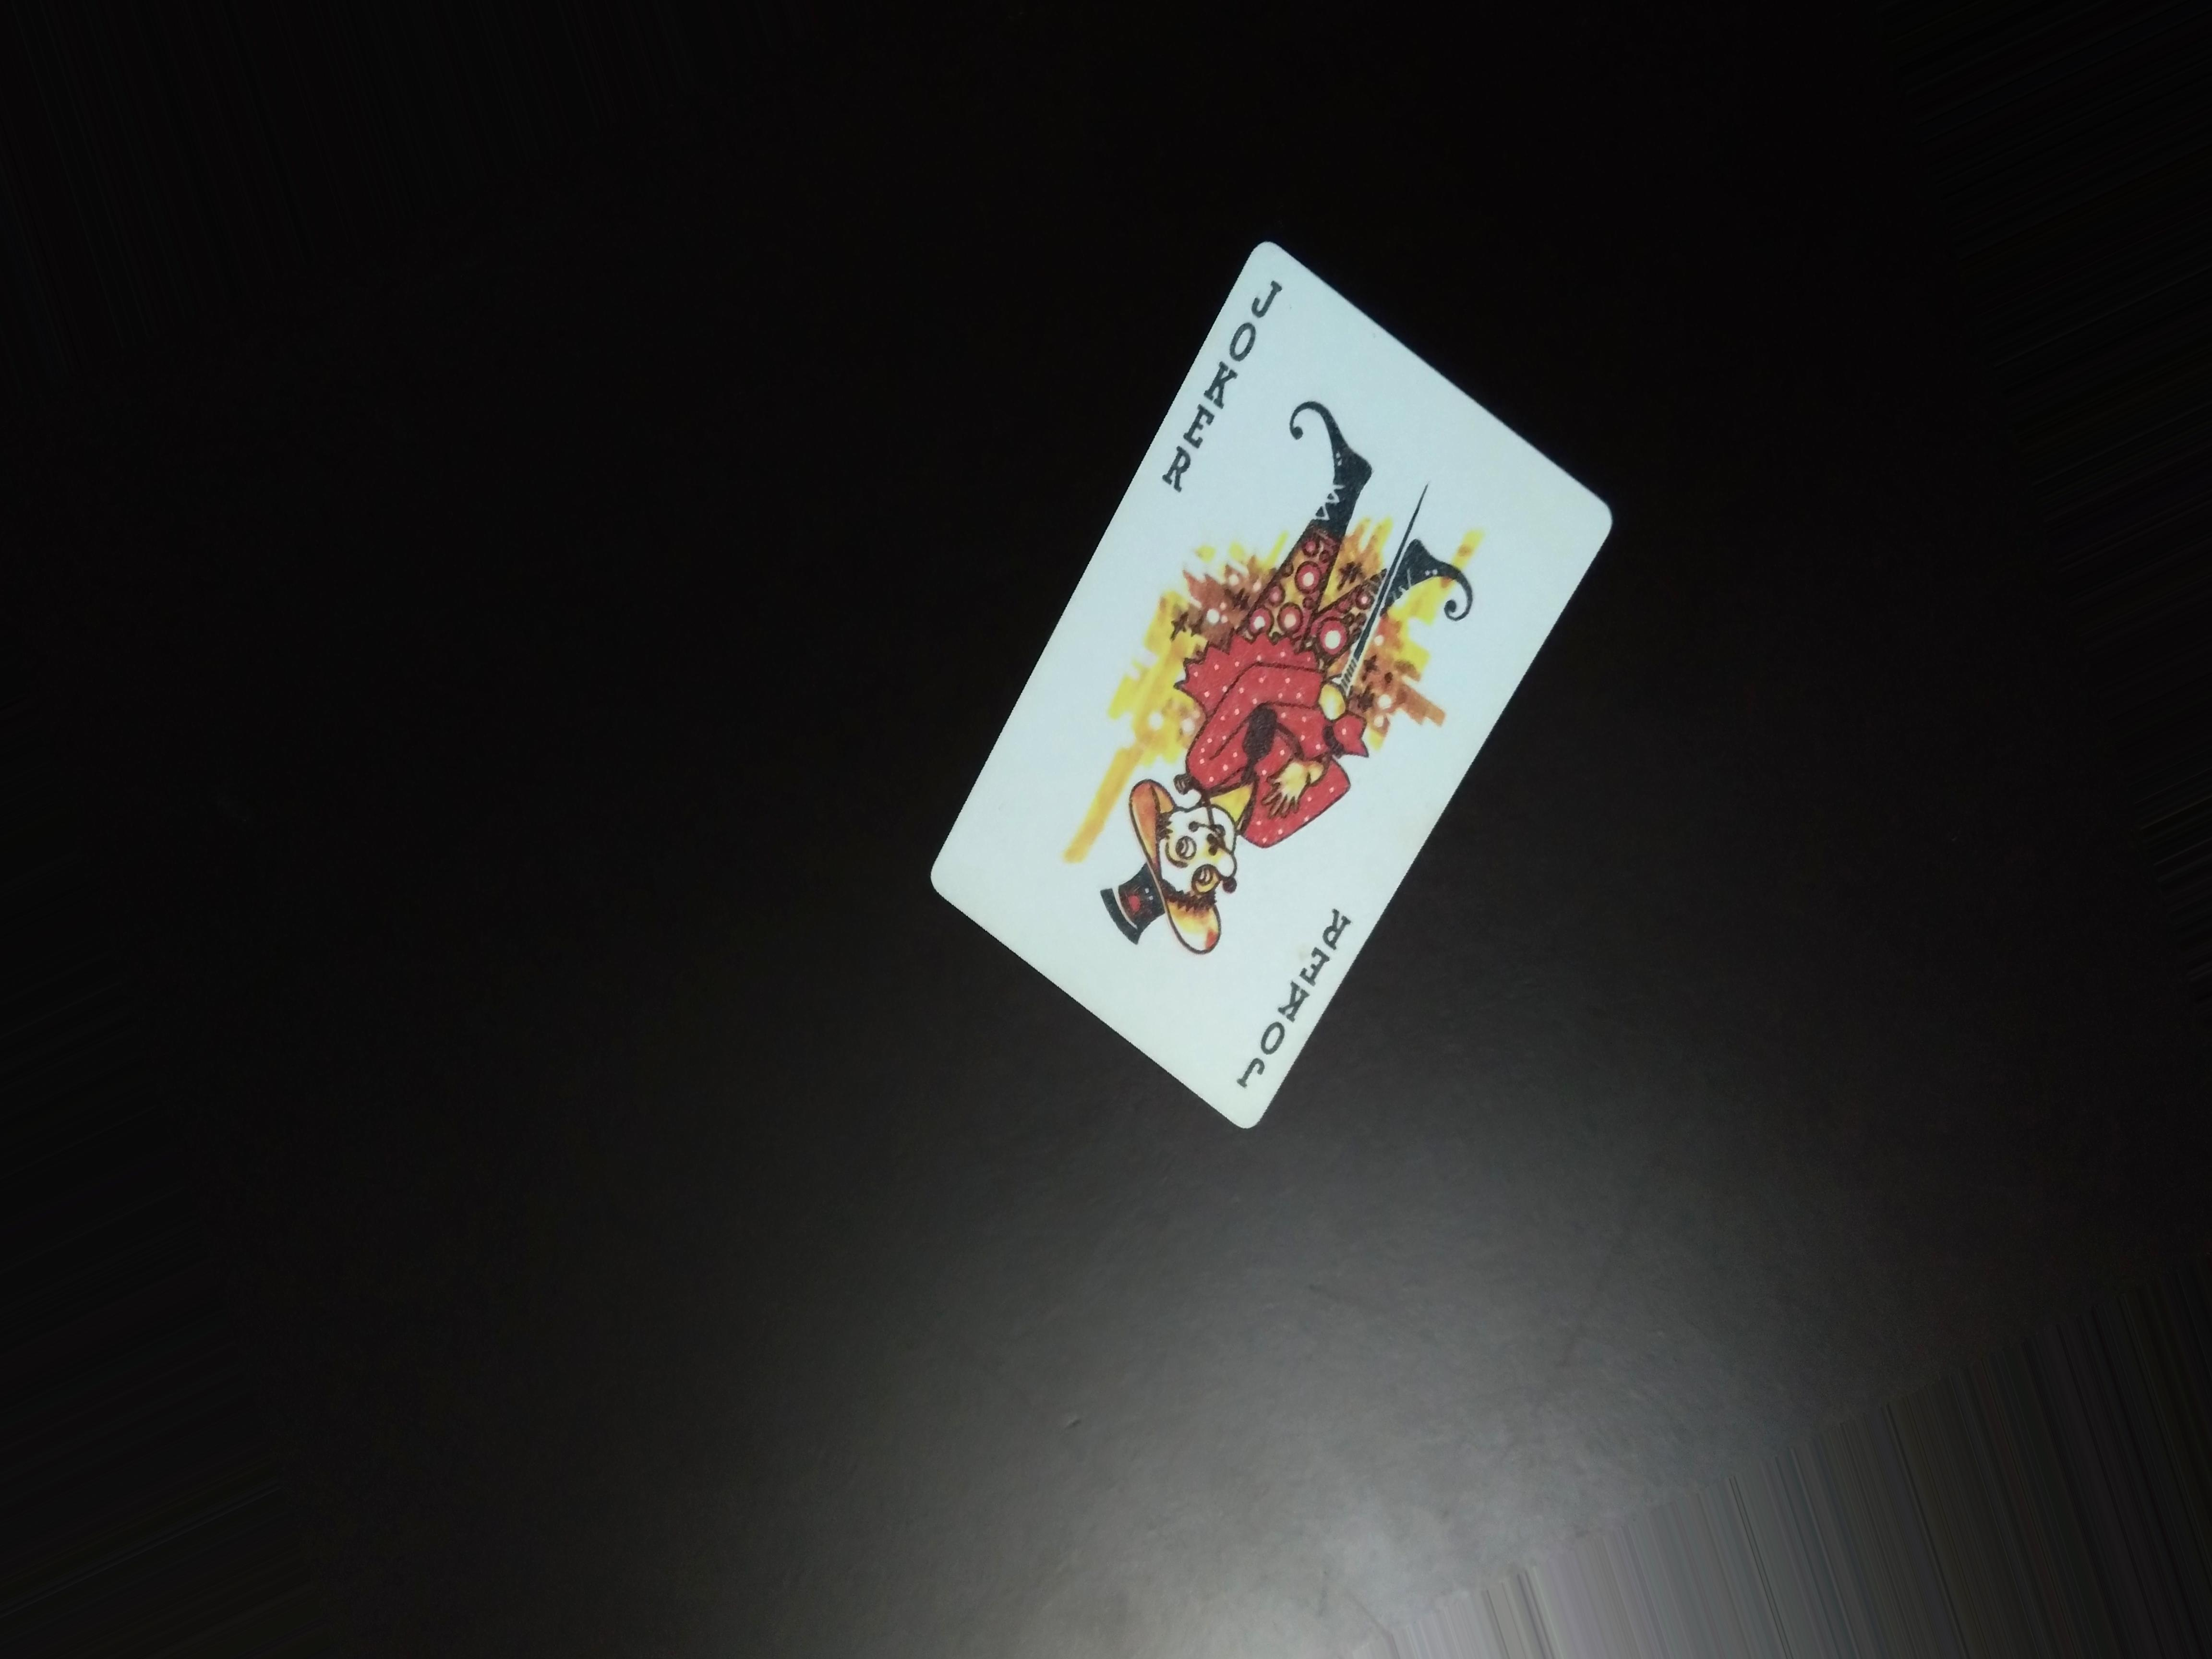JOKER: (1155, 275, 1280, 518)
